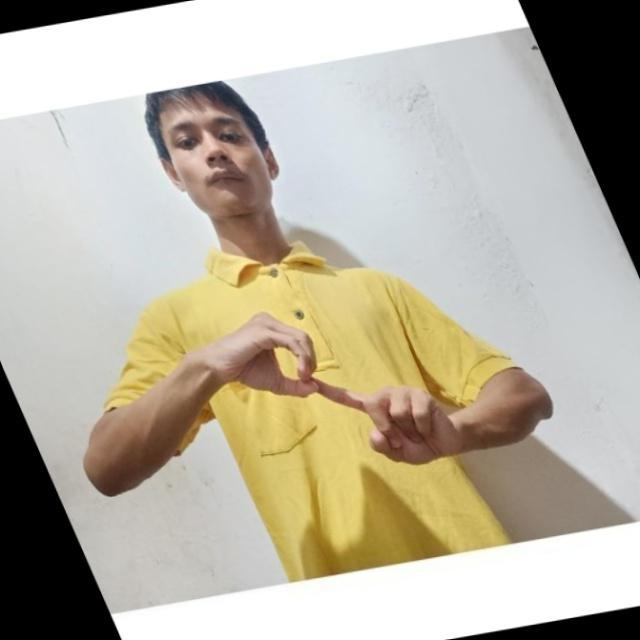Q: (222, 302, 460, 472)
